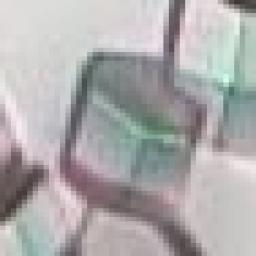crystals: (53, 50, 209, 221)
